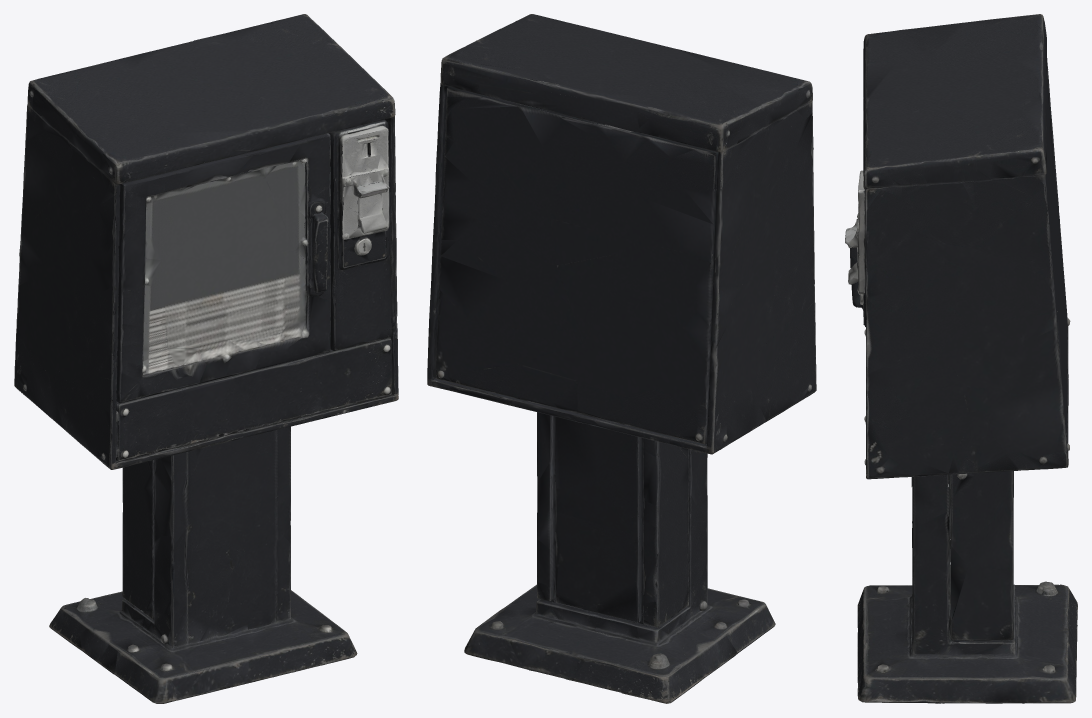
Rendered from news-box.glb.
3 renders of one model, left to right at view 1: azimuth 30°, elevation 25°; view 2: azimuth 150°, elevation 25°; view 3: azimuth 270°, elevation 25°, orthographic.
Parts seen in each view (by area): view 1: MeshyFit; view 2: MeshyFit; view 3: MeshyFit.
Part boxes in pixels (x1=…): MeshyFit: x1=14, y1=14, x2=398, y2=703; MeshyFit: x1=427, y1=14, x2=816, y2=703; MeshyFit: x1=845, y1=14, x2=1077, y2=703.
Bounding box in the file's own units: 0.6174 × 1.15 × 0.4234.
1 material, 1 textured.
